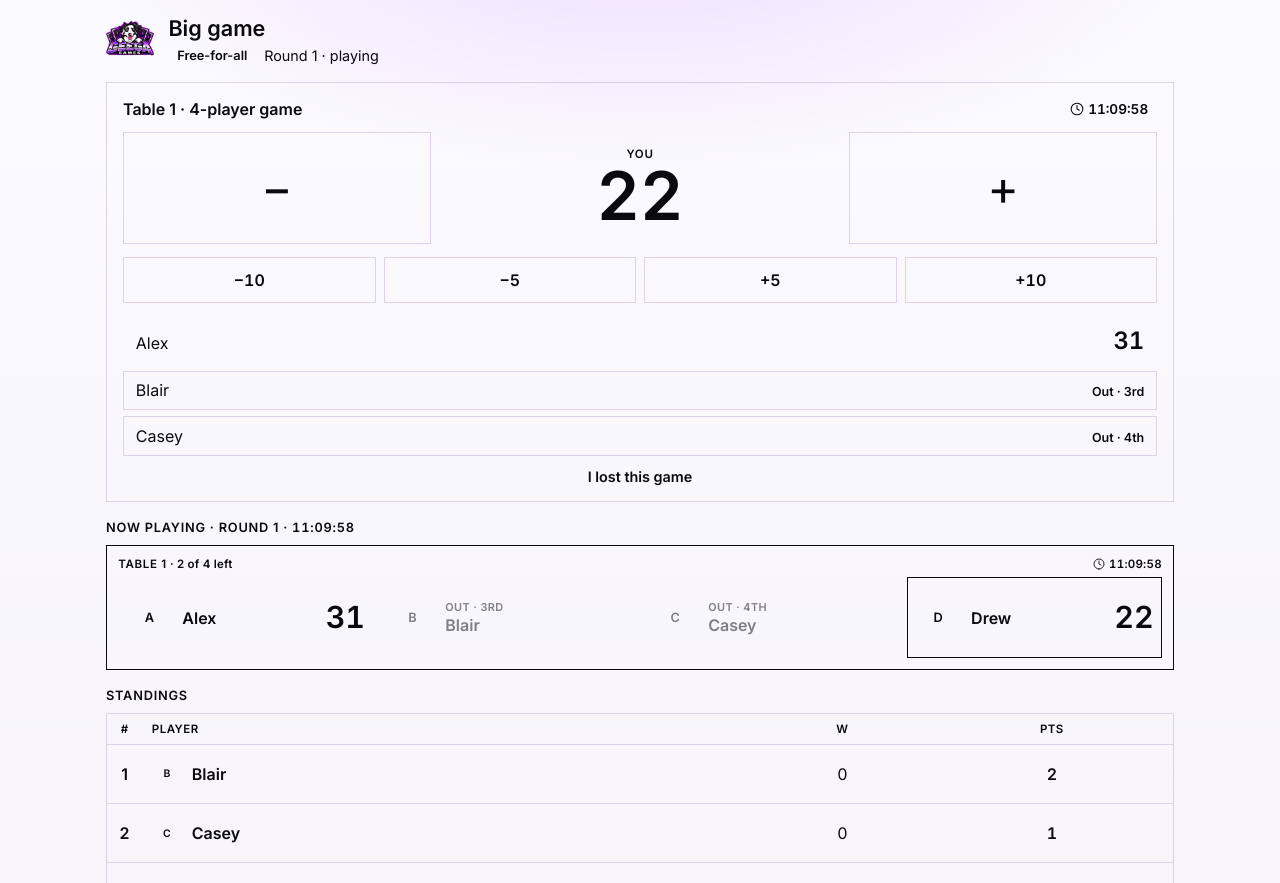
Test: on a player's phone › names the winner when only two are left
The image size is (1280, 883).
Click the button "I lost this game" at (640, 477), box left=588, top=468, right=692, bottom=485
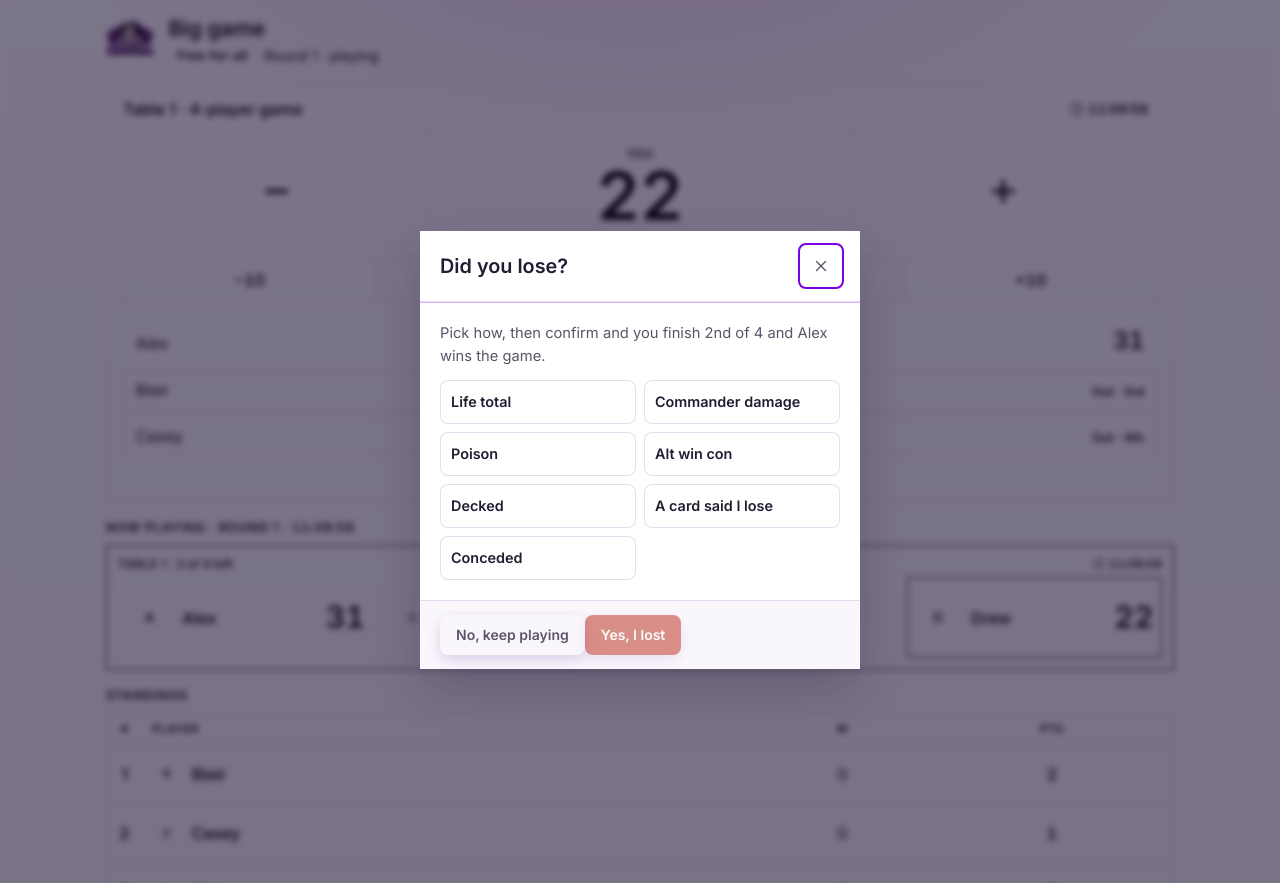
Now the text "Pick how, then confirm and you finish 2nd of 4 and Alex wins the game." is shown, box left=440, top=322, right=840, bottom=368
